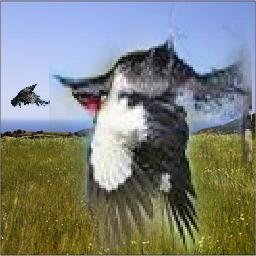Crow: (12, 84, 51, 109)
Woodpecker: (50, 1, 253, 256)
